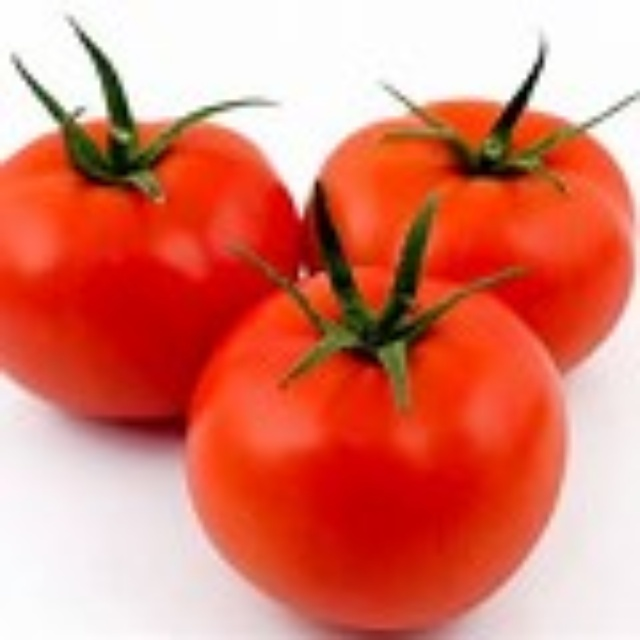tomato: (186, 280, 570, 623), (3, 115, 316, 434), (310, 99, 639, 374)
